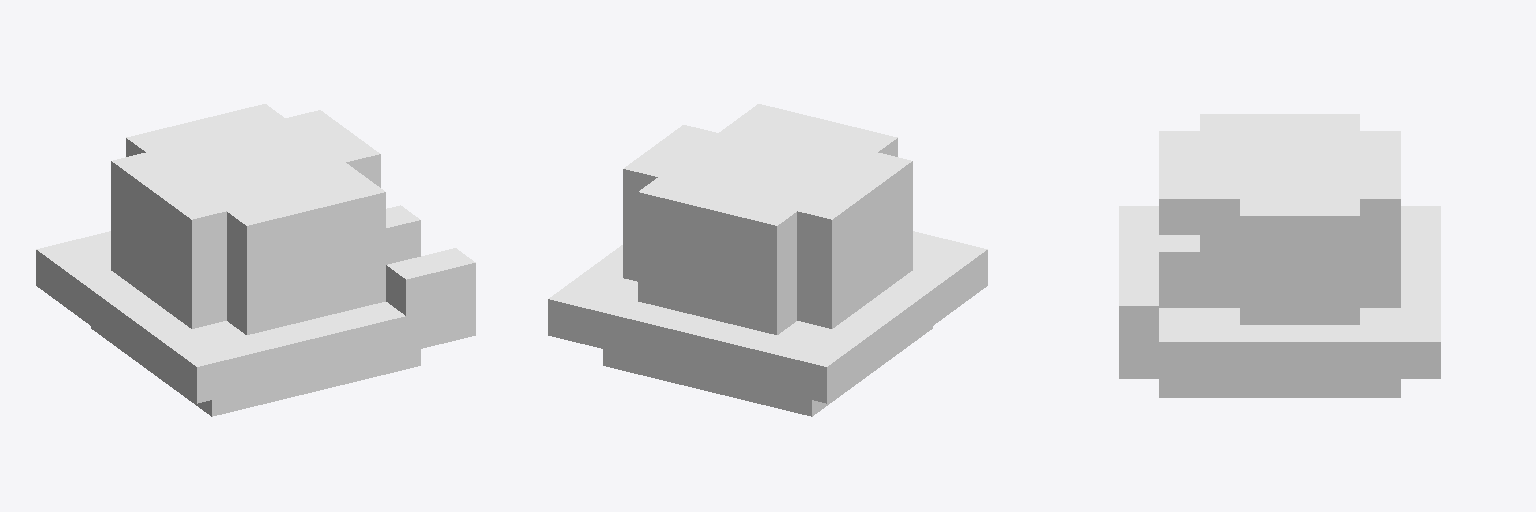
File: SpiderSilkHalf.obj
3 views of the same model, side by side, from view 1: azimuth 30°, elevation 25°; view 2: azimuth 150°, elevation 25°; view 3: azimuth 270°, elevation 25° (orthographic).
Visible parts, largest first — view 1: object 1; view 2: object 1; view 3: object 1.
Boxes of the visible parts, box(x1,y1,x2,y2) form: object 1: box(36, 104, 475, 416); object 1: box(548, 104, 987, 416); object 1: box(1119, 114, 1440, 397).
Size of the model in its own units: 0.8 by 0.5 by 0.8.